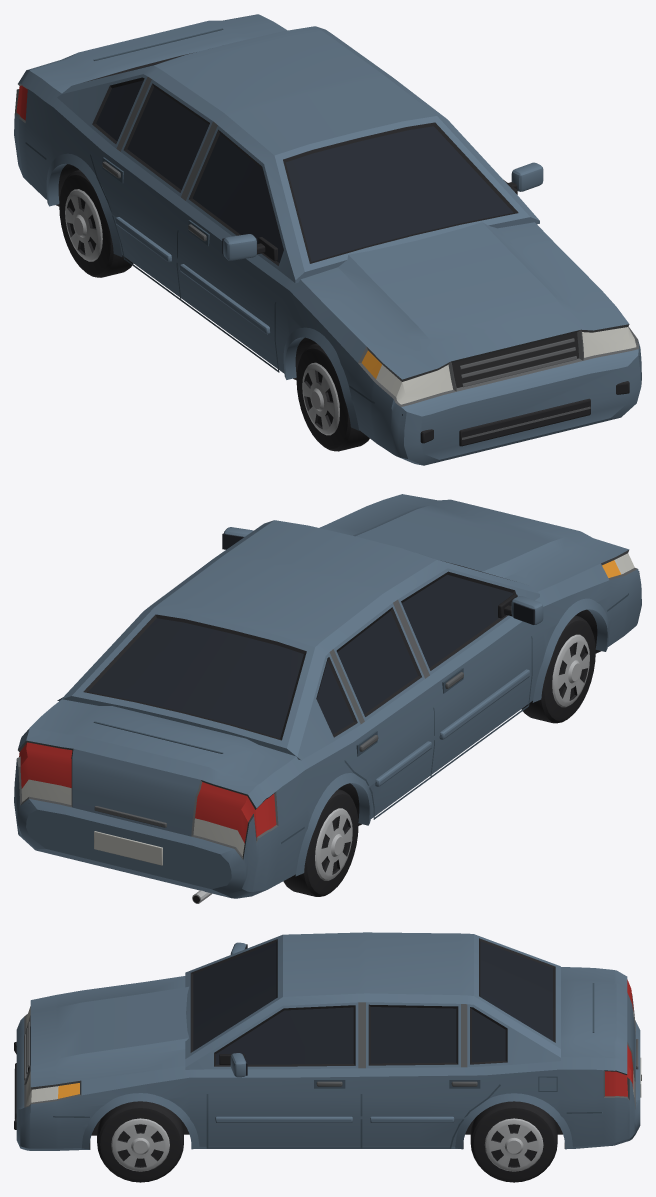
File: Sedan.fbx
3 views of the same model, one above another, from view 1: azimuth 30°, elevation 25°; view 2: azimuth 150°, elevation 25°; view 3: azimuth 270°, elevation 25° (orthographic). The views are drawn at different scales.
Visible parts, largest first — view 1: Sedan_Mesh; view 2: Sedan_Mesh; view 3: Sedan_Mesh.
Boxes of the visible parts, bbox=[...] form: Sedan_Mesh: bbox=[14, 14, 641, 465]; Sedan_Mesh: bbox=[14, 494, 641, 903]; Sedan_Mesh: bbox=[14, 932, 641, 1182].
Size of the model in its own units: 2.21 by 1.5 by 4.83.
